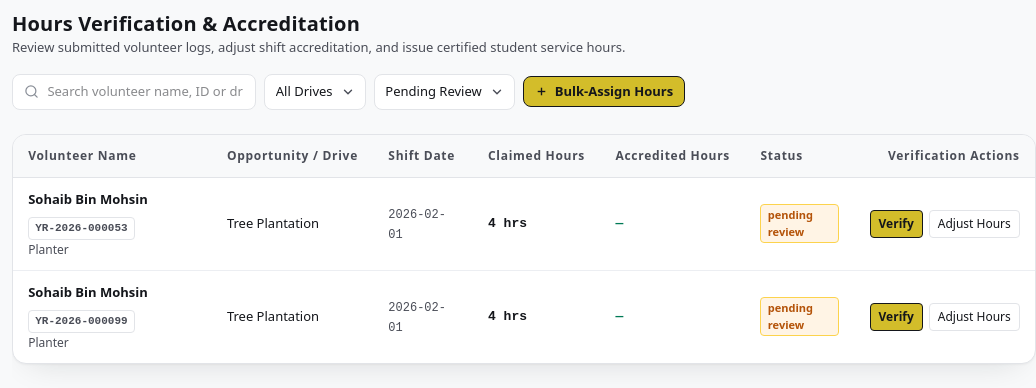
Scenario: YouthRepublicHoursPage › action button permissions gating › renders volunteerCode and filters activity hours by volunteerCode search
This screenshot has width=1036, height=388.
expect the text "YR-2026-000053" is shown: met, box [28,217,135,240]
expect the text "YR-2026-000099" is shown: met, box [28,310,135,333]
Type "000053" into the field with placeholder "Search volunteer name, ID or drive..." at (134, 92), box [12,74,256,110]
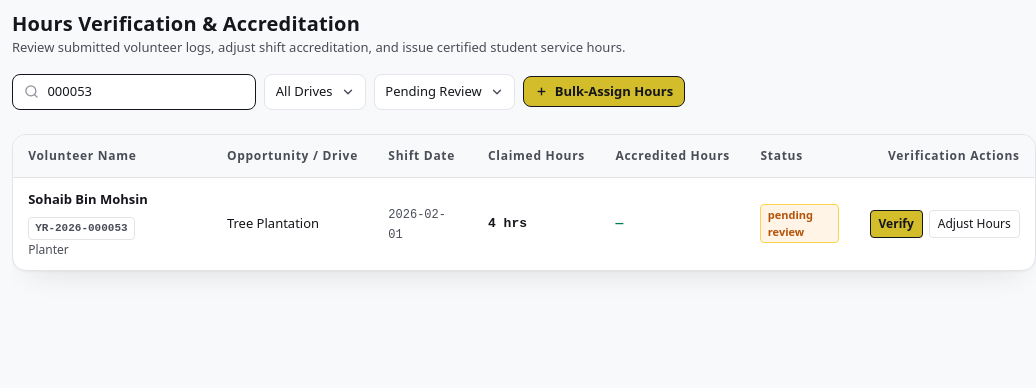
expect the text "YR-2026-000053" is shown: met, box [28,217,135,240]
expect the text "YR-2026-000099" is gone: met
